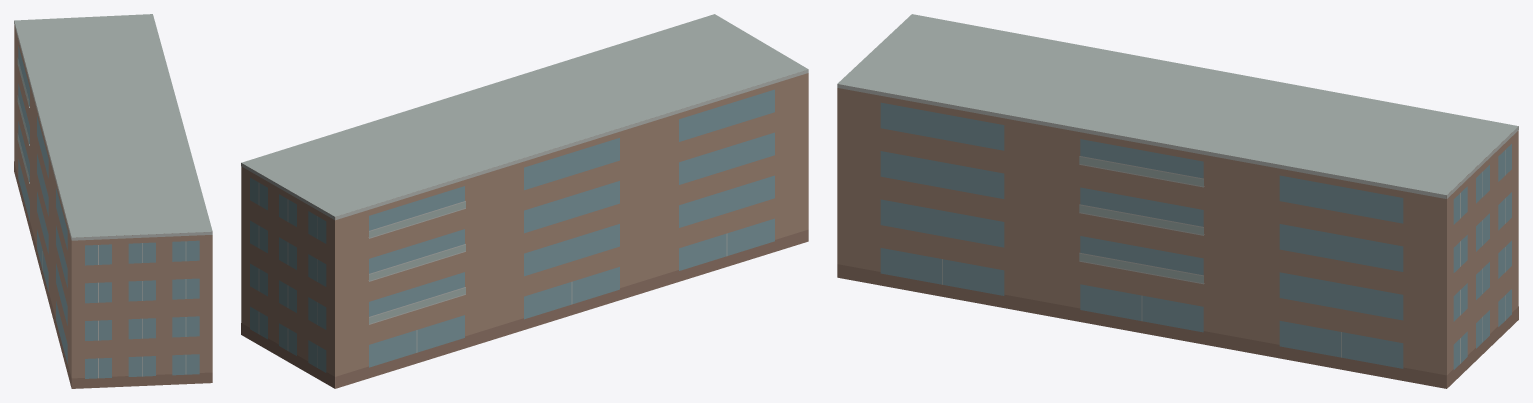
File: survey-upis-32527339.glb
The picture shows the model from 3 angles, left to right: view 1: azimuth 30°, elevation 25°; view 2: azimuth 150°, elevation 25°; view 3: azimuth 270°, elevation 25°; orthographic projection. The views are drawn at different scales.
Parts seen in each view (by area): view 1: survey-upis-32527339.tmp; view 2: survey-upis-32527339.tmp; view 3: survey-upis-32527339.tmp.
Boxes of the visible parts, <box> form: survey-upis-32527339.tmp: <box>14,14,212,388</box>; survey-upis-32527339.tmp: <box>241,14,808,388</box>; survey-upis-32527339.tmp: <box>837,14,1518,388</box>.
Bounding box in the file's own units: 24.09 × 12 × 38.28.
